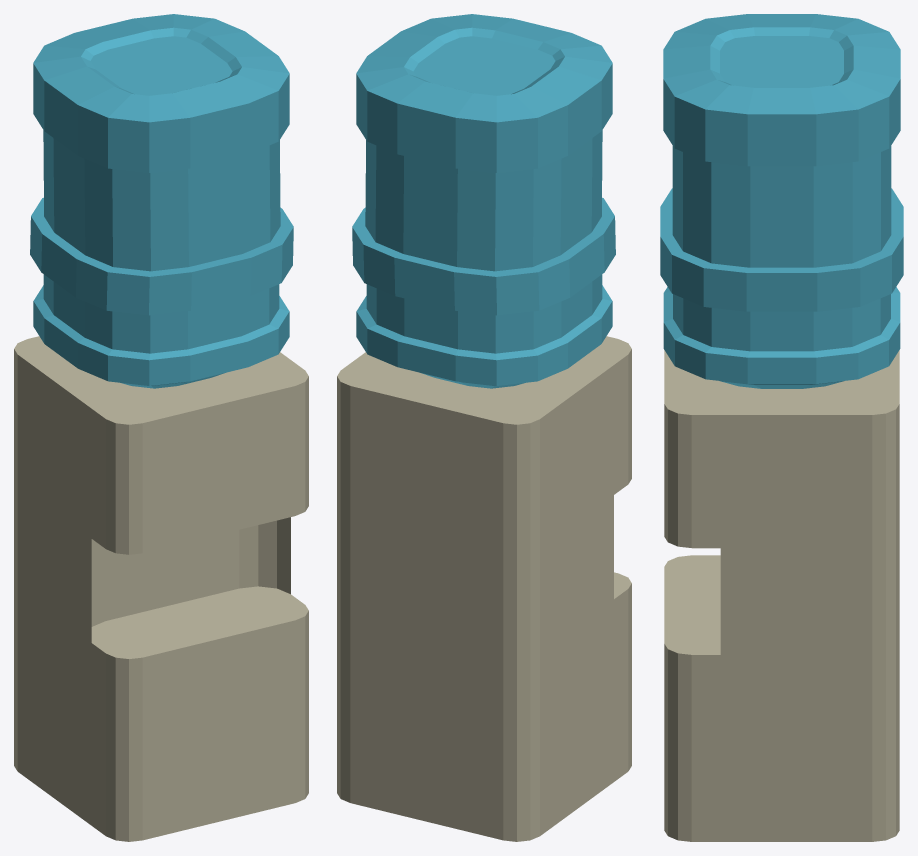
Rendered from WaterDispenser_LP.fbx.
3 renders of one model, left to right at view 1: azimuth 30°, elevation 25°; view 2: azimuth 150°, elevation 25°; view 3: azimuth 270°, elevation 25°, orthographic. The views are drawn at different scales.
Parts seen in each view (by area): view 1: WaterDispenserLP, WaterContainerLP; view 2: WaterDispenserLP, WaterContainerLP; view 3: WaterDispenserLP, WaterContainerLP.
Part boxes in pixels (x1,y1,x2,y2): WaterDispenserLP: [14, 336, 308, 841]; WaterContainerLP: [30, 14, 293, 388]; WaterDispenserLP: [337, 336, 631, 841]; WaterContainerLP: [352, 14, 615, 388]; WaterDispenserLP: [664, 350, 899, 841]; WaterContainerLP: [660, 14, 903, 388].
Bounding box in the file's own units: 259 × 258 × 860.
